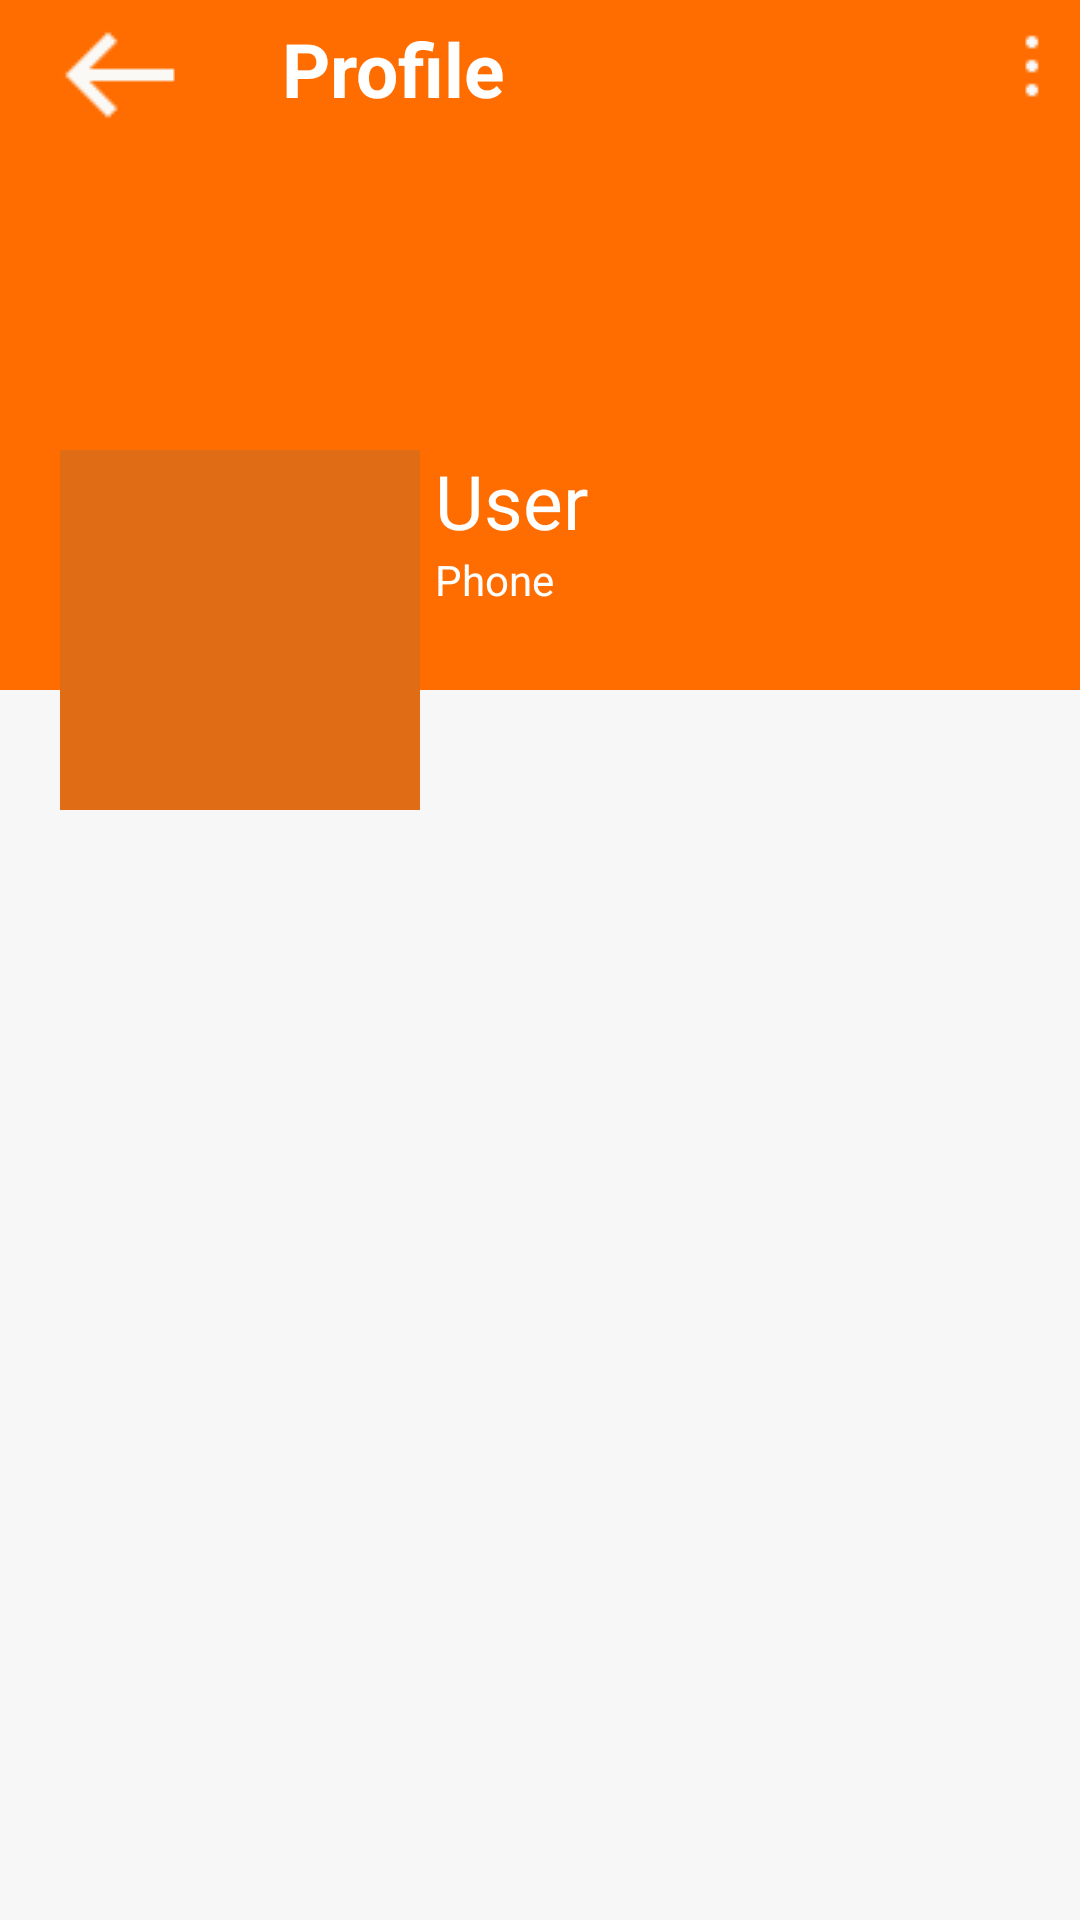

Screen size 1080×1920. Icon name, then its center in pixels as (x=x, y=y):
back: (x=120, y=75)
